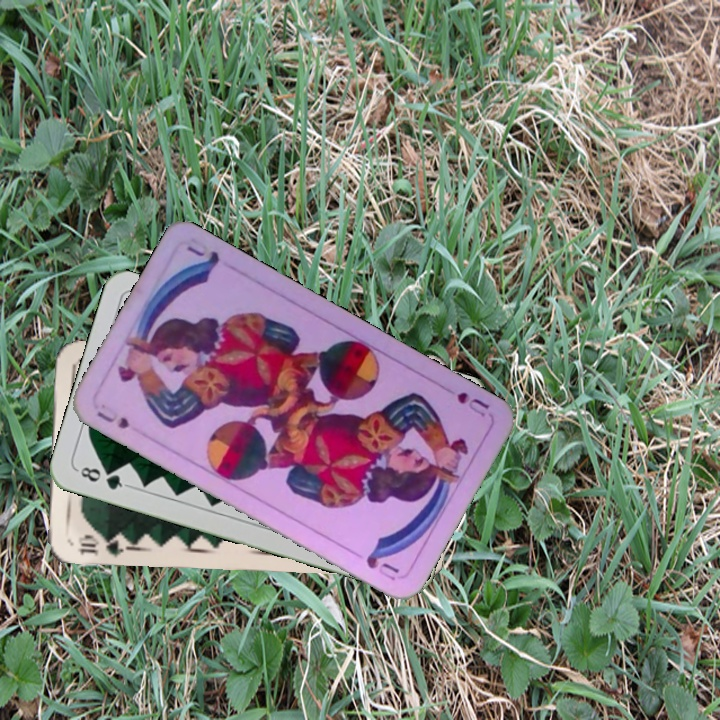G10: (74, 531, 129, 559)
G8: (73, 462, 131, 493)
SU: (92, 399, 132, 434), (452, 387, 492, 420)
